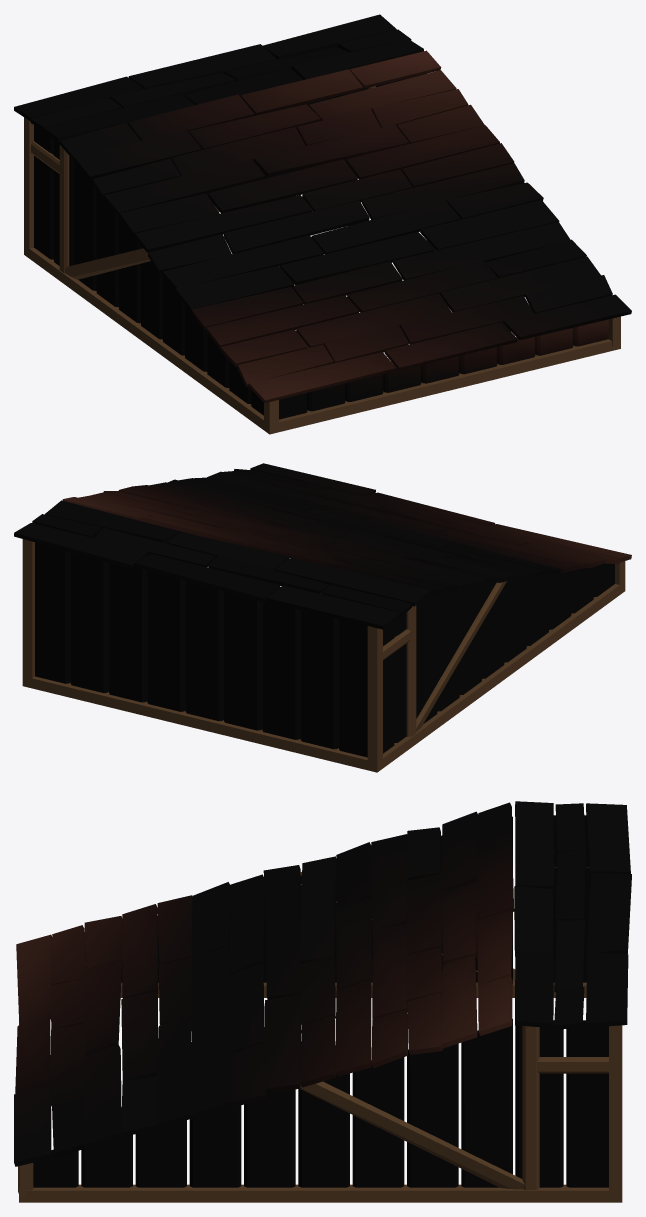
File: standard_wooden_roof_3.FBX
3 views of the same model, one above another, from view 1: azimuth 30°, elevation 25°; view 2: azimuth 150°, elevation 25°; view 3: azimuth 270°, elevation 25° (orthographic). The views are drawn at different scales.
Parts seen in each view (by area): view 1: standard_wooden_roof_3; view 2: standard_wooden_roof_3; view 3: standard_wooden_roof_3.
Part boxes in pixels (box(x1,y1,x2,y2)): standard_wooden_roof_3: box(14, 14, 631, 434); standard_wooden_roof_3: box(14, 463, 631, 772); standard_wooden_roof_3: box(14, 801, 631, 1202).
Bounding box in the file's own units: 626 × 244 × 733.
